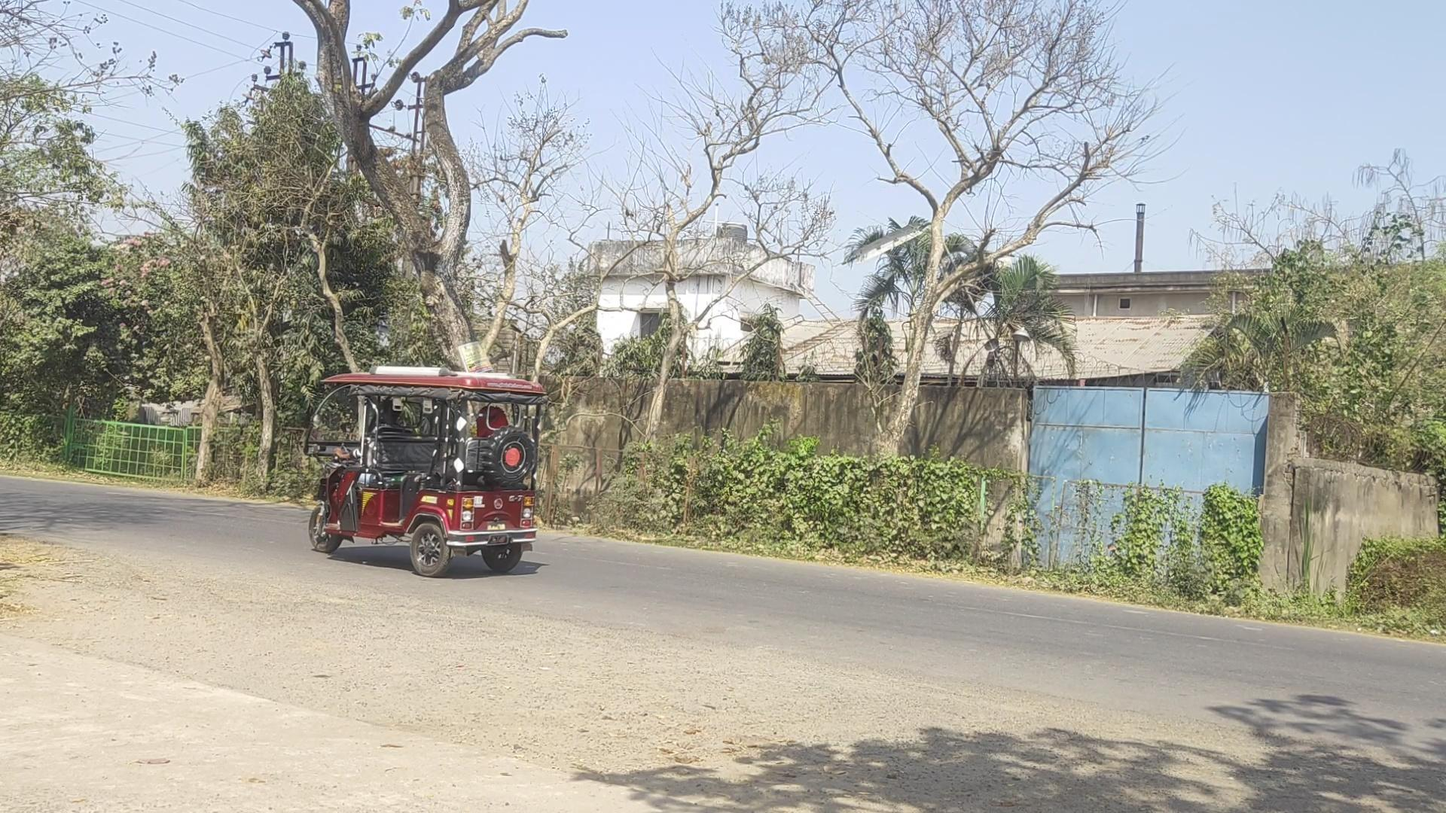Auto: (304, 365, 548, 577)
